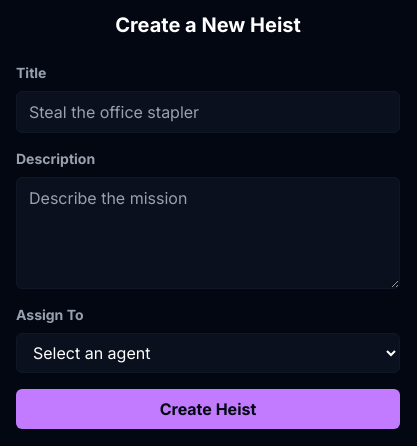
Scenario: CreateHeistPage › shows a loading state while submitting
The width and height of the screenshot is (417, 446).
Type "Steal the stapler" into the field labelled "Title" at (208, 112), box [16,91,400,133]
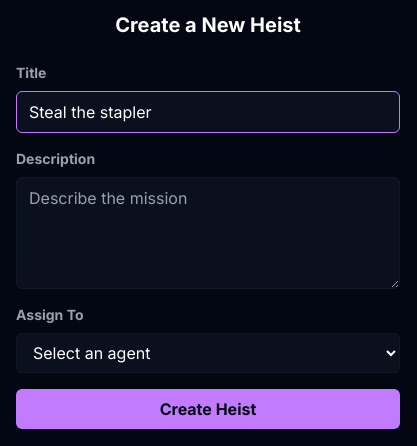
Type "Quietly." into the text box labelled "Description" at (208, 233), box [16,177,400,289]
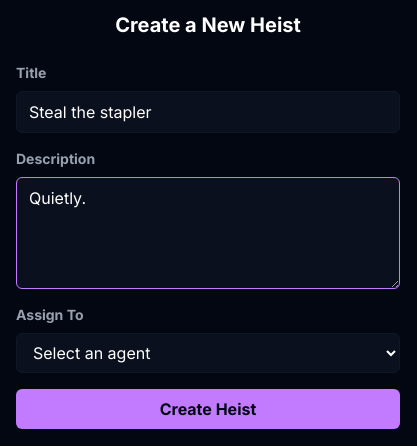
Select "SilentCrimsonFalcon" in the dropdown labelled "Assign To" at (208, 353), box [16,333,400,373]
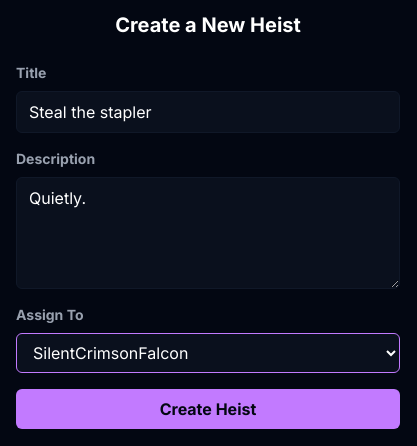
Click the button "Create Heist" at (208, 409), box [16,389,400,429]
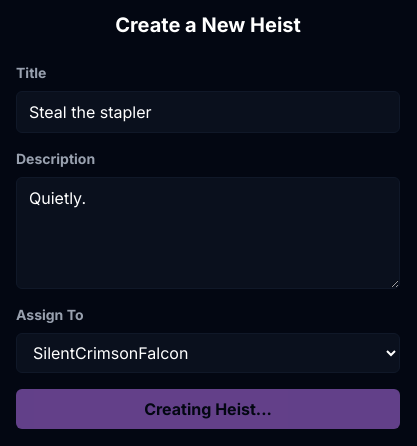
Now the button "Creating Heist..." is disabled, box [16,389,400,429]
